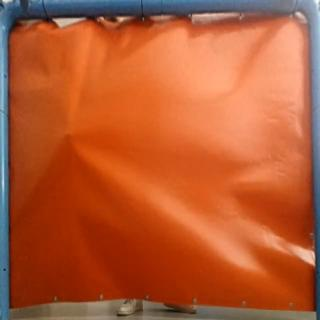Hit-hRxx: (62, 126, 78, 142)
